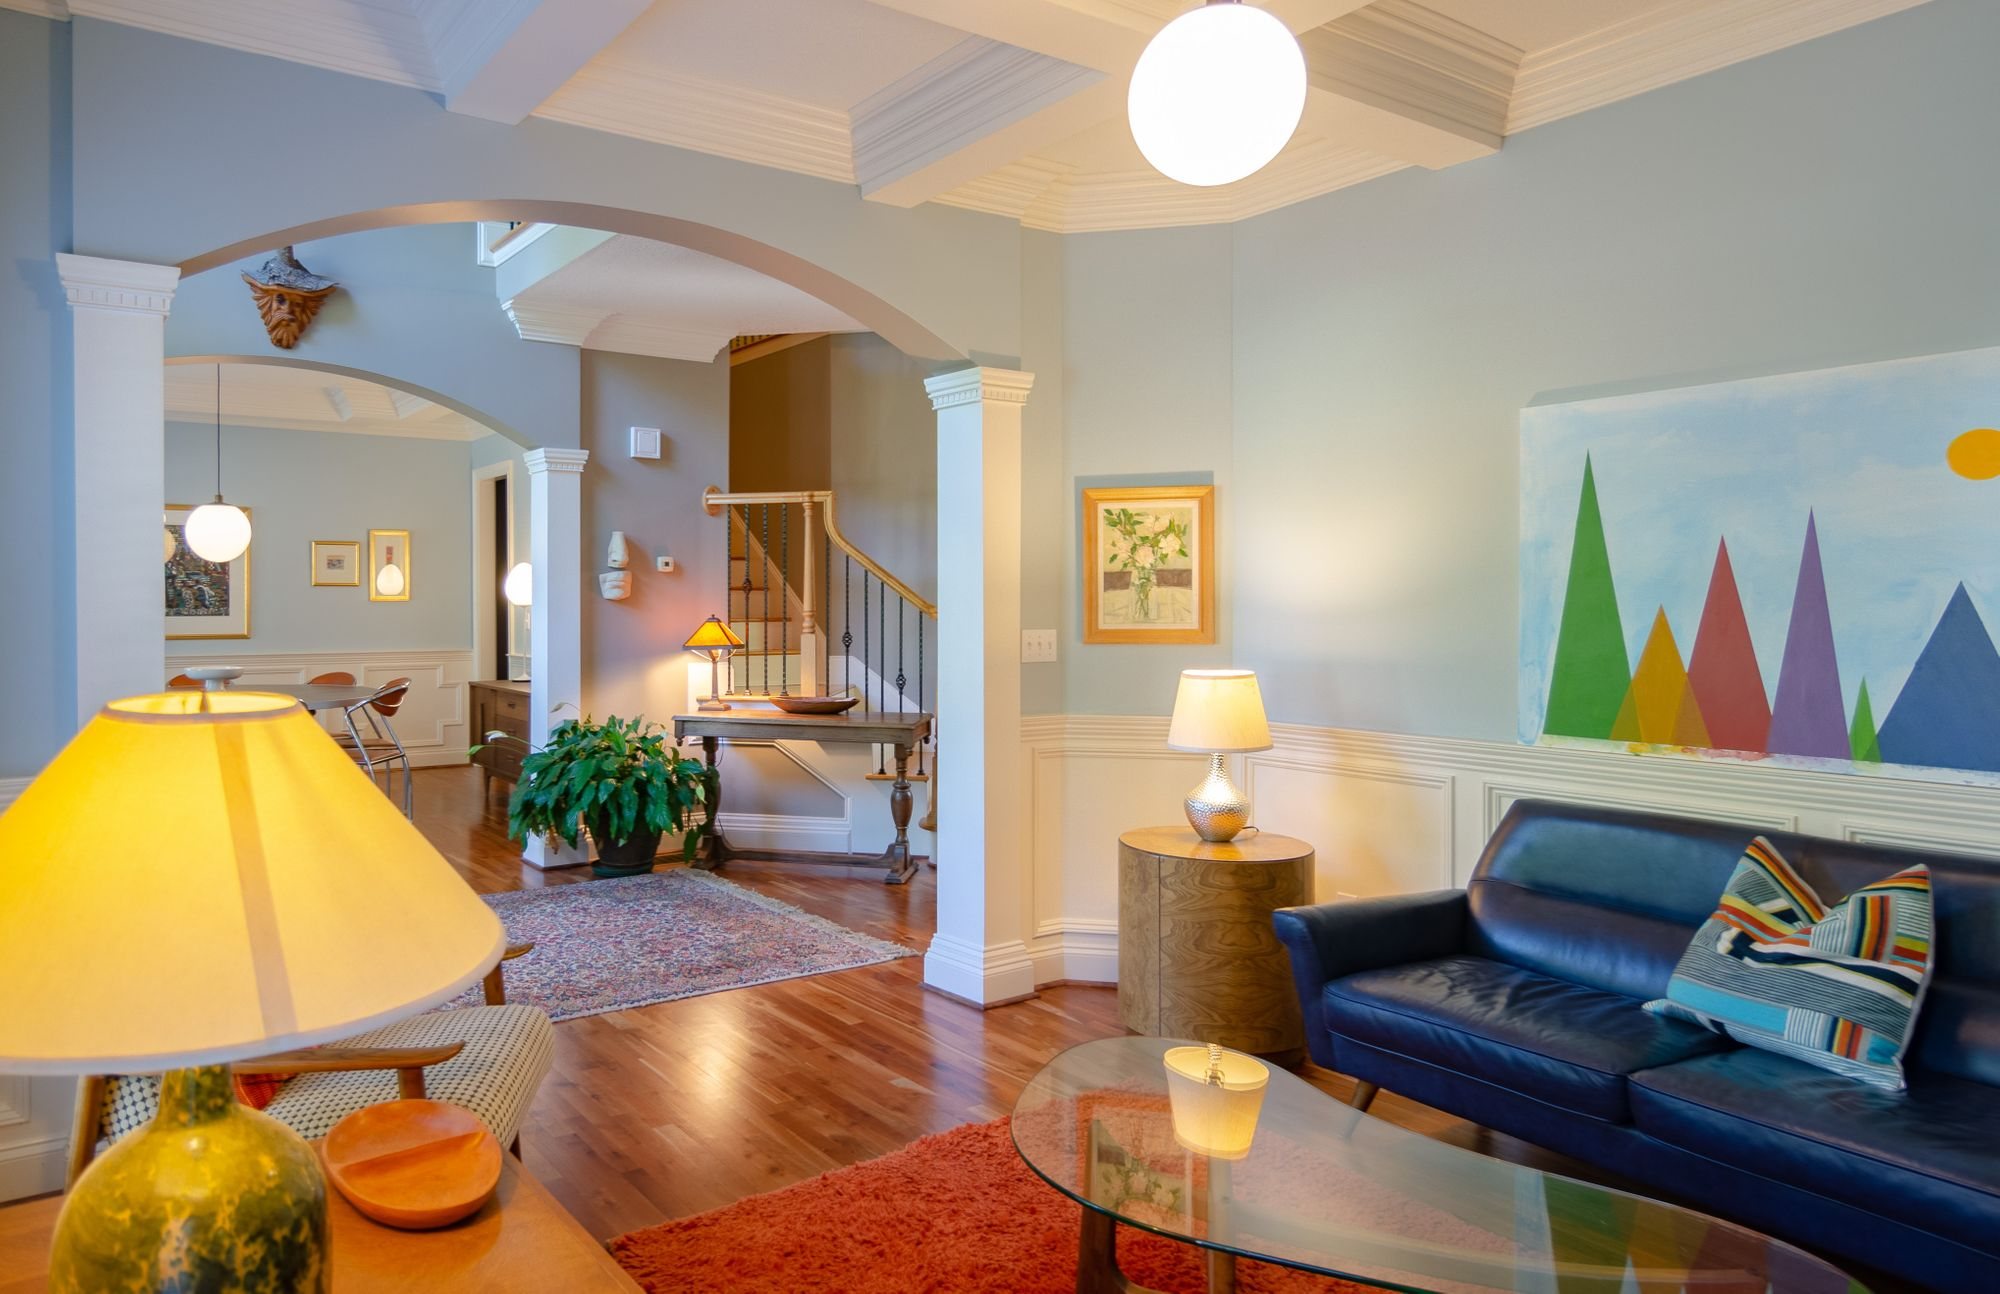lampu: (13, 659, 548, 1284), (1087, 9, 1350, 207), (1127, 641, 1303, 870), (173, 334, 270, 595), (656, 606, 765, 739)
